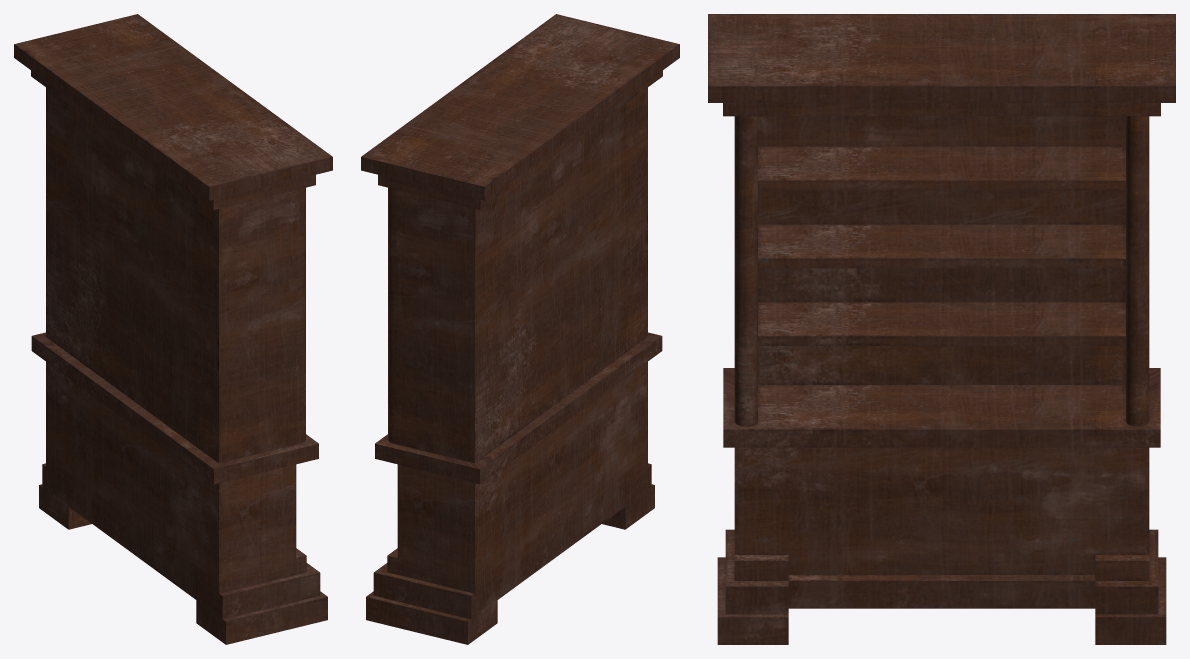
The model's file is bookcase.glb.
3 renders of one model, left to right at view 1: azimuth 30°, elevation 25°; view 2: azimuth 150°, elevation 25°; view 3: azimuth 270°, elevation 25°, orthographic. The views are drawn at different scales.
Parts seen in each view (by area): view 1: SM_Bookcase; view 2: SM_Bookcase; view 3: SM_Bookcase.
Boxes of the visible parts, x1,y1,x2,y2 form: SM_Bookcase: (14,14,332,644); SM_Bookcase: (361,14,679,644); SM_Bookcase: (708,14,1175,644).
Bounding box in the file's own units: 0.8006 × 2.88 × 2.19.
1 material, 1 textured.
